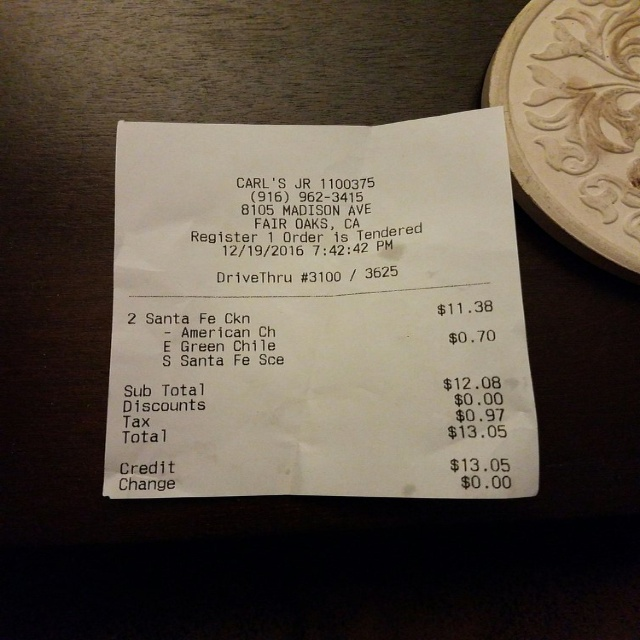invoice_table: (126, 299, 496, 367)
invoice_title: (235, 175, 377, 230)
invoice_total: (123, 424, 508, 444)
